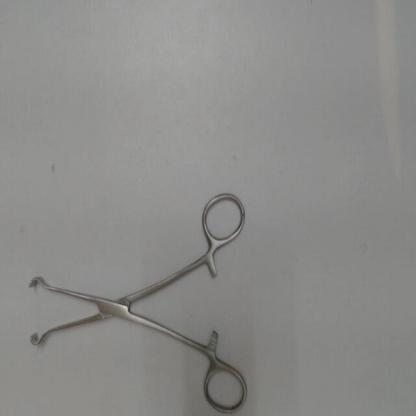Babcock Tissue Forceps: (26, 184, 255, 415)
